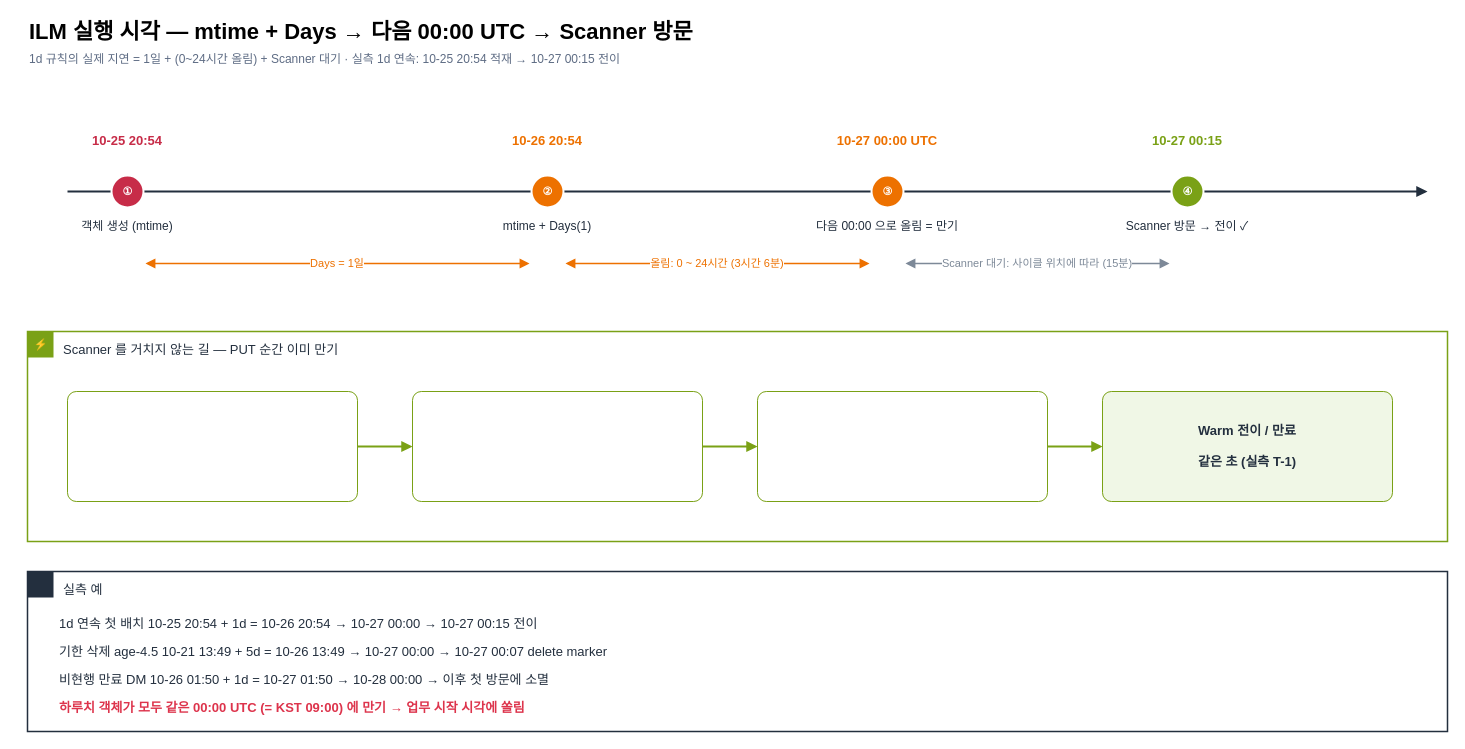
Image size: 1465x749. Some labels were removed from this diagram. Here are the shapes that lost their labels. From the top down, the centre of each, then its label:
At point 212,446: "PUT 요청 새 파일 · 소급 PUT · 태그 붙인 PUT".
At point 557,446: "규칙 평가 (PUT 시) 만기 ≤ 지금 ?".
At point 902,446: "즉시 작업 큐 Scanner 무관".
At point 40,584: "실측".
